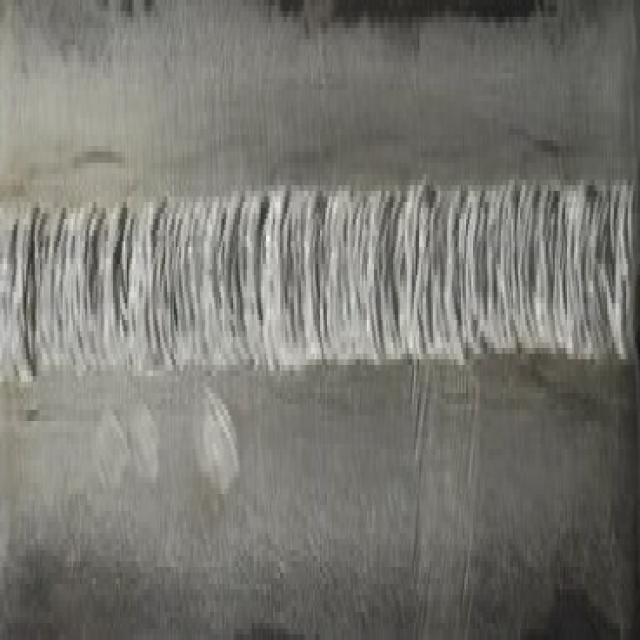Good Weld: (7, 186, 628, 360)
